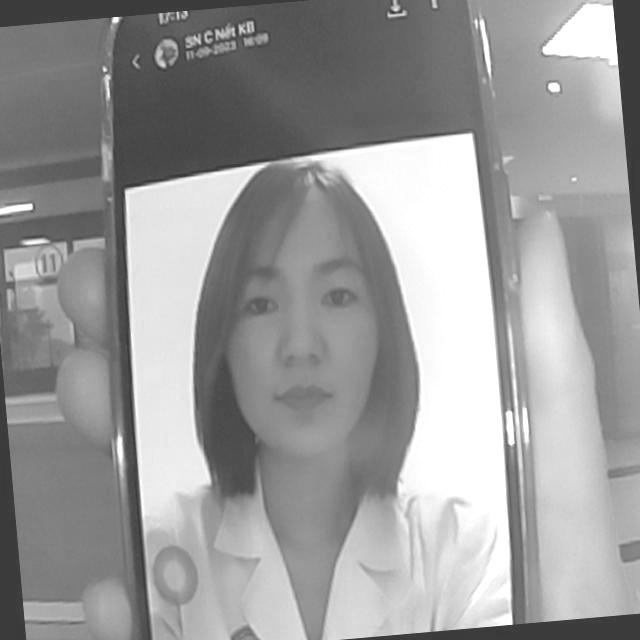fake: (75, 0, 553, 640)
